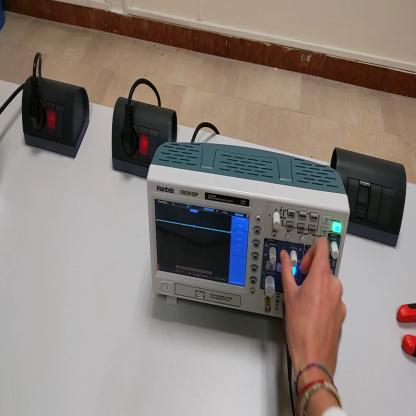hand: (280, 235, 346, 377)
oscilloscope: (147, 142, 350, 320)
pliers: (396, 300, 416, 359)
socket: (23, 70, 93, 159), (109, 98, 178, 183)
